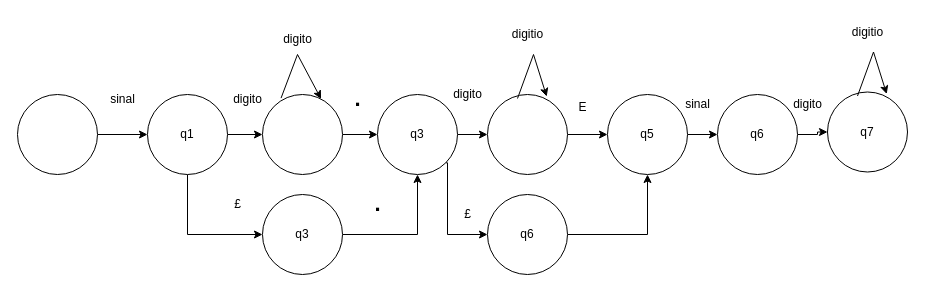
Image size: 925x292. Some labels were removed from this diagram. Here are the shapes that lost their labels. From the top down, the centre of each, then its label:
At pixel 57 134: "q0".
At pixel 302 134: "q2".
At pixel 527 134: "q4".
